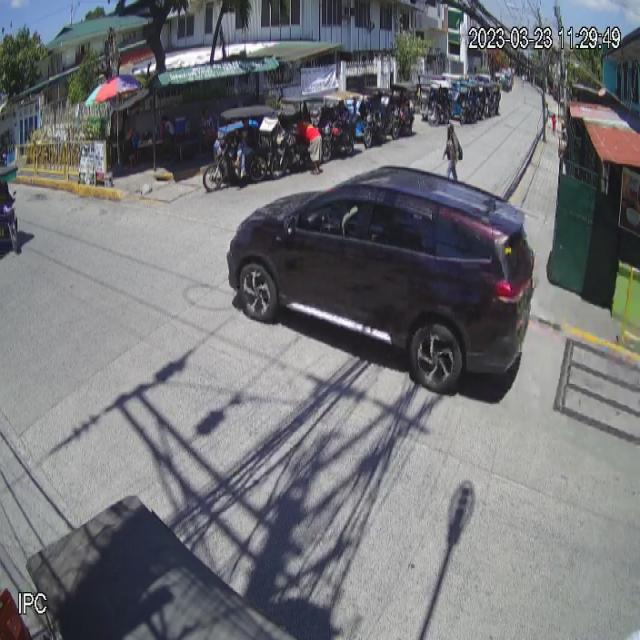Car: (226, 162, 536, 396)
